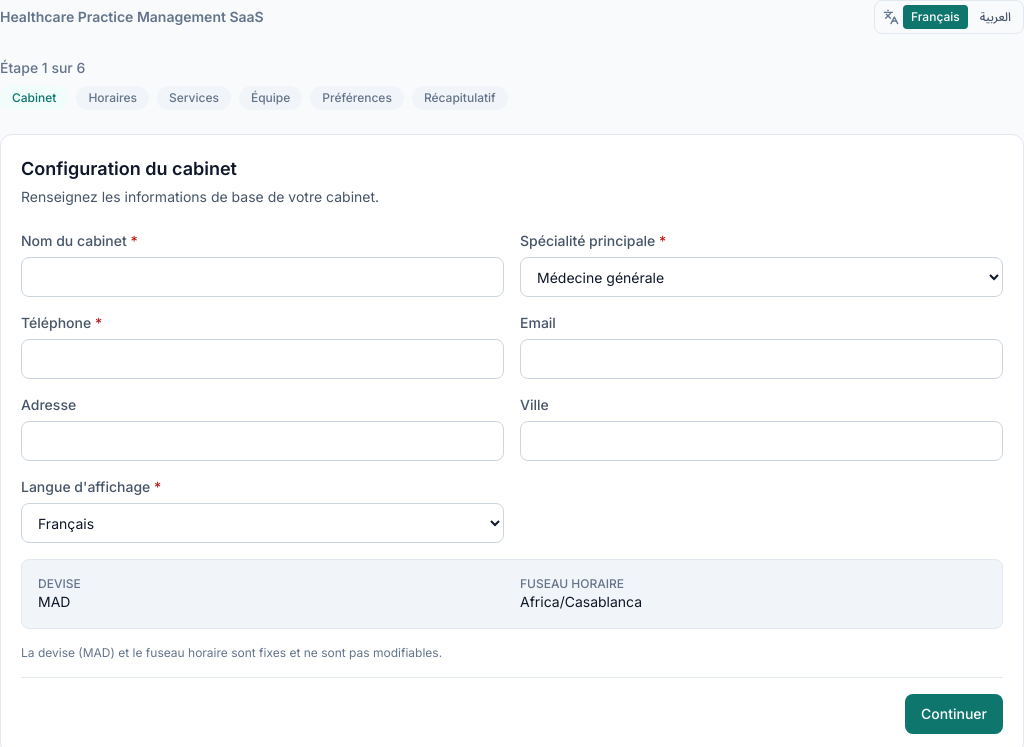
Test: OnboardingWizard › blocks continuing from Cabinet without a required field
Click the button "Continuer". click: (954, 714)
box: [905,694,1003,734]
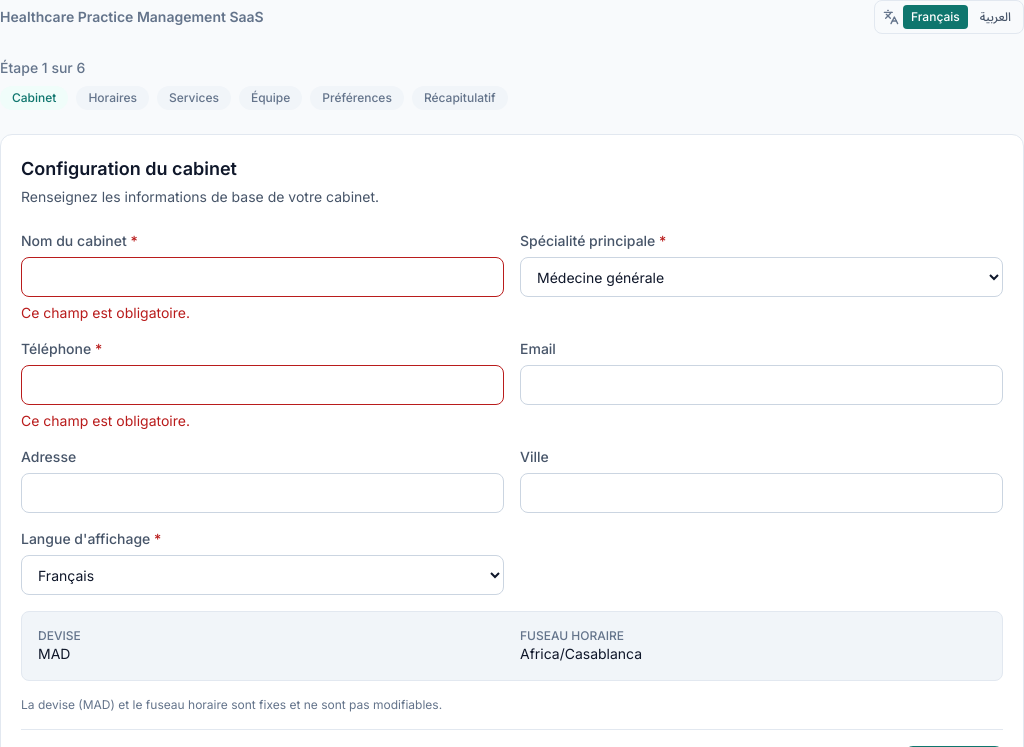
Check: the heading "Configuration du cabinet" is shown, box [21,158,237,179]
Check: the text "Ce champ est obligatoire." below "Nom du cabinet" is shown, box [21,304,190,321]
